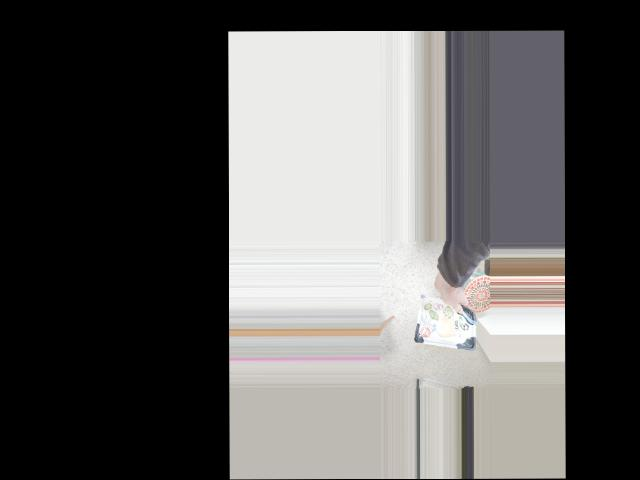cheese: (416, 285, 465, 334)
